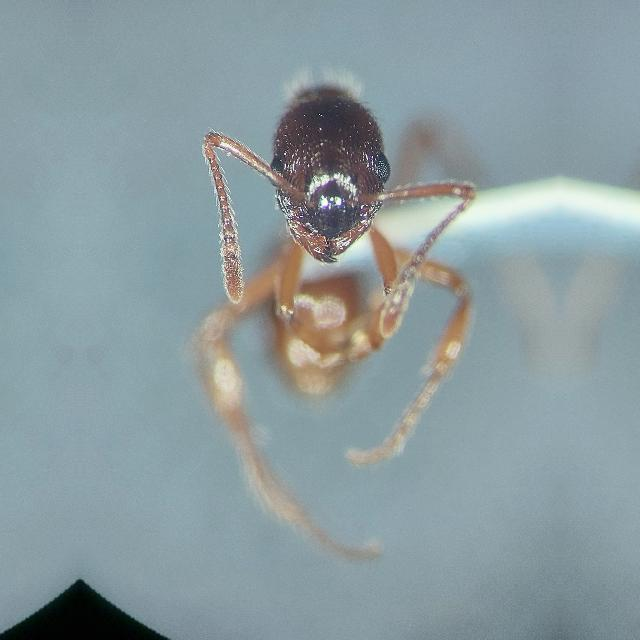Myrmica: (154, 41, 486, 489)
